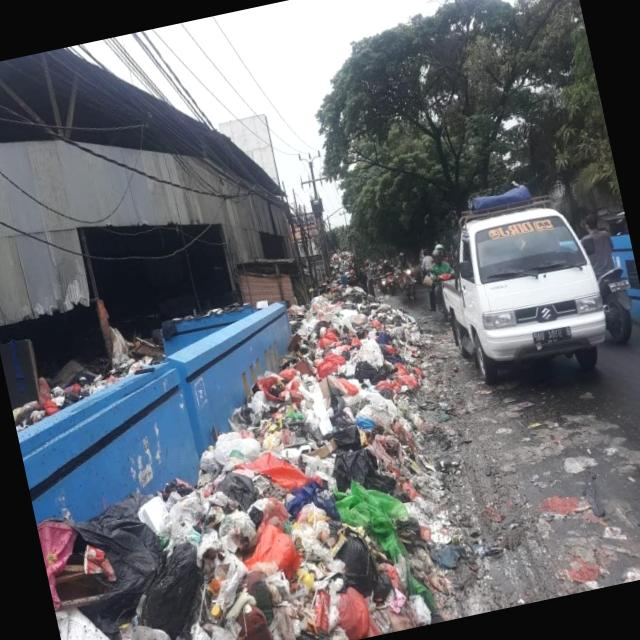garbage: (0, 260, 482, 640)
